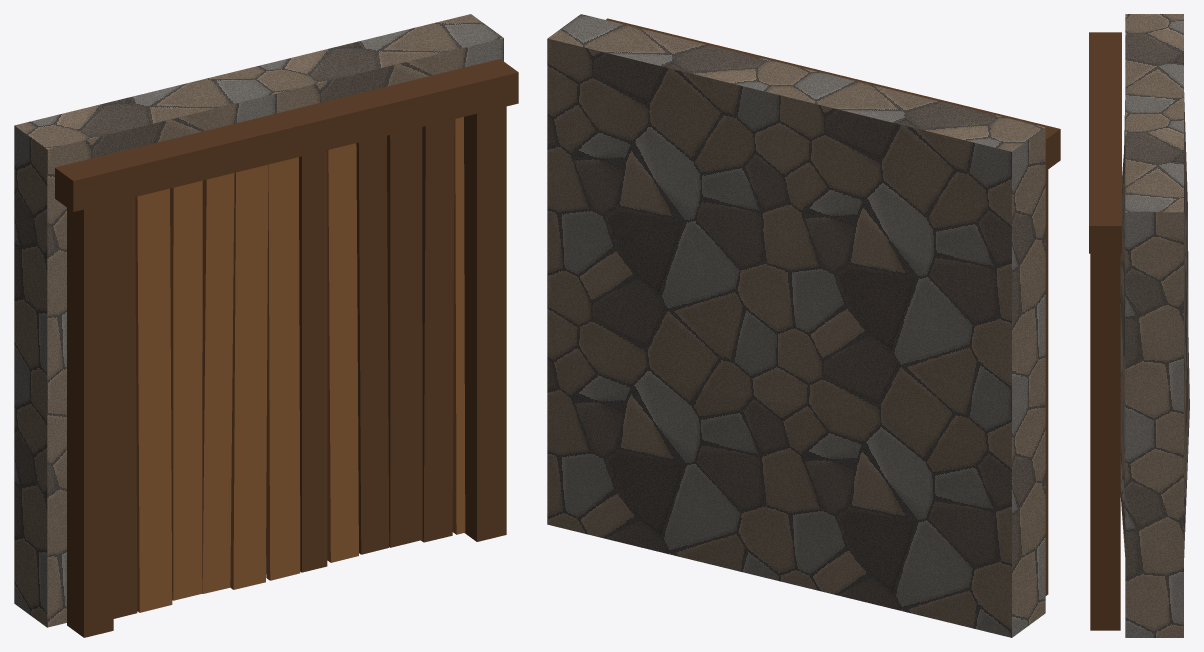
Rendered from mine_wall_timbered.glb.
3 views of the same model, side by side, from view 1: azimuth 30°, elevation 25°; view 2: azimuth 150°, elevation 25°; view 3: azimuth 270°, elevation 25° (orthographic). The views are drawn at different scales.
Visible parts, largest first — view 1: mine_wall_timbered; view 2: mine_wall_timbered; view 3: mine_wall_timbered.
Part boxes in pixels (left/top/right/bottom): mine_wall_timbered: left=14, top=14, right=518, bottom=637; mine_wall_timbered: left=547, top=14, right=1060, bottom=637; mine_wall_timbered: left=1089, top=14, right=1189, bottom=637.
Bounding box in the file's own units: 4 × 4 × 0.8603.
3 materials, 1 textured.
